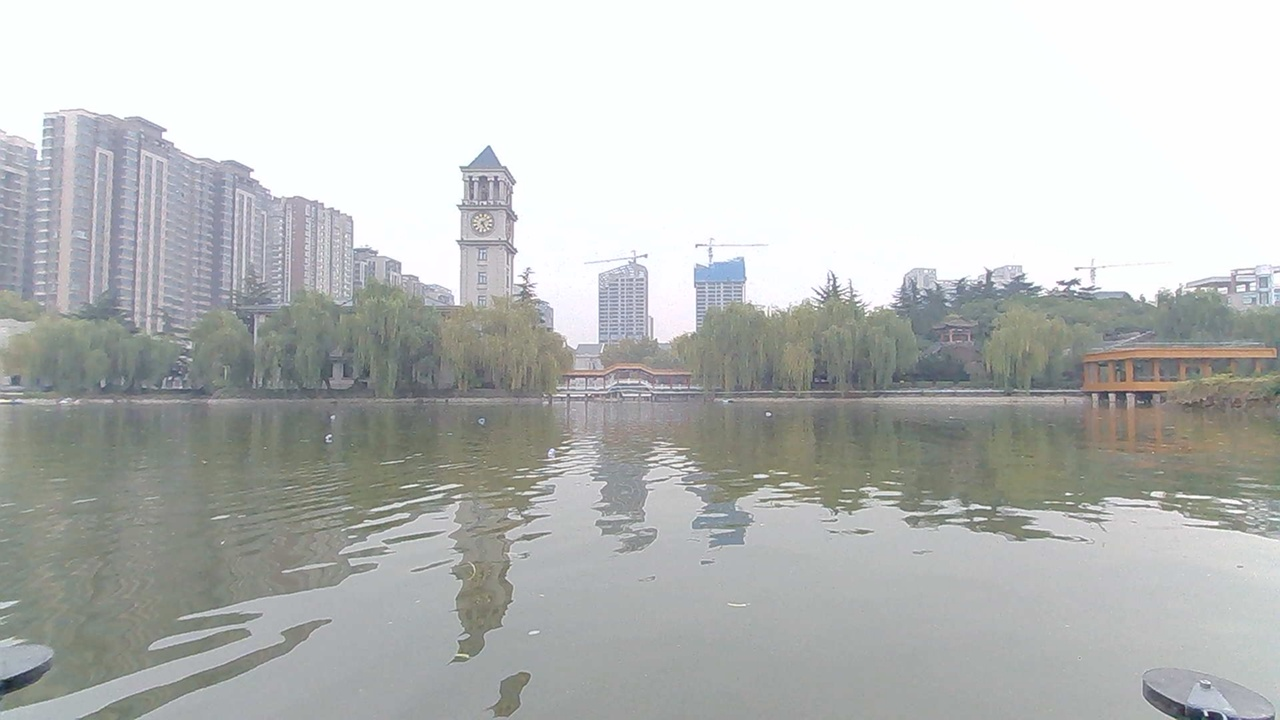bottle: (524, 436, 584, 469), (460, 407, 511, 440), (309, 426, 350, 449), (748, 404, 787, 427), (319, 399, 355, 423)
